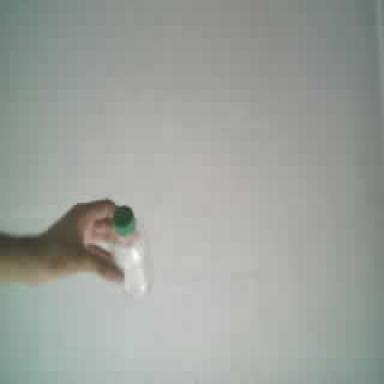bottle: (111, 208, 151, 294)
